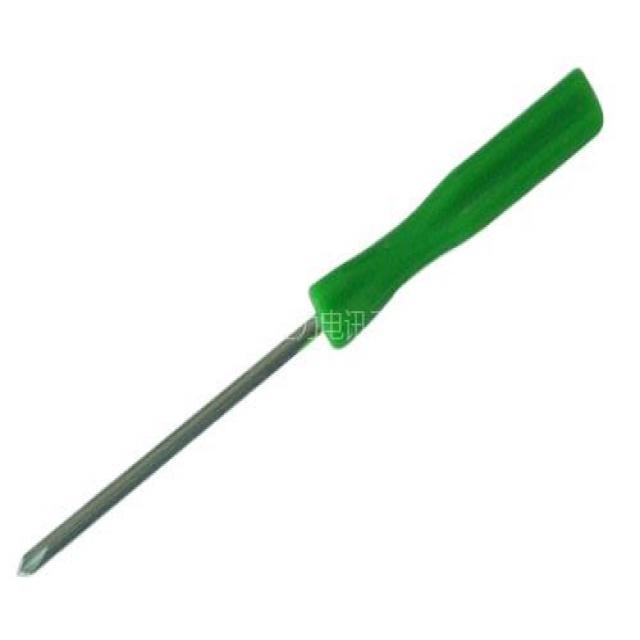screwdriver: (0, 57, 612, 590)
